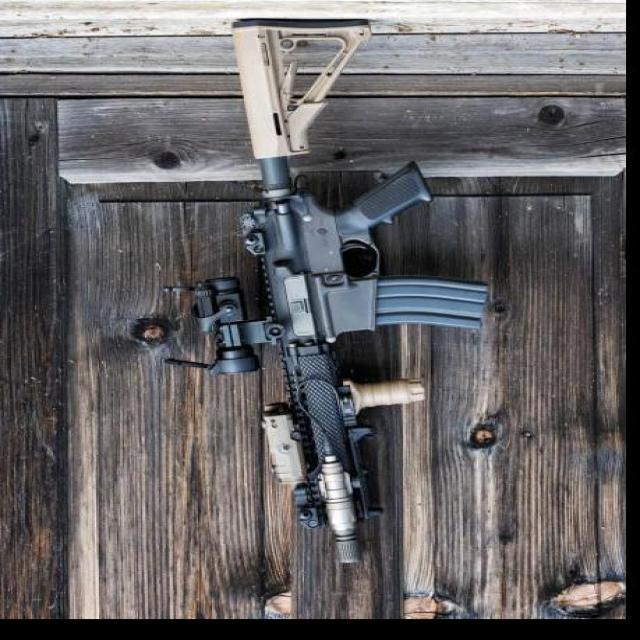weapon: (160, 19, 492, 564)
